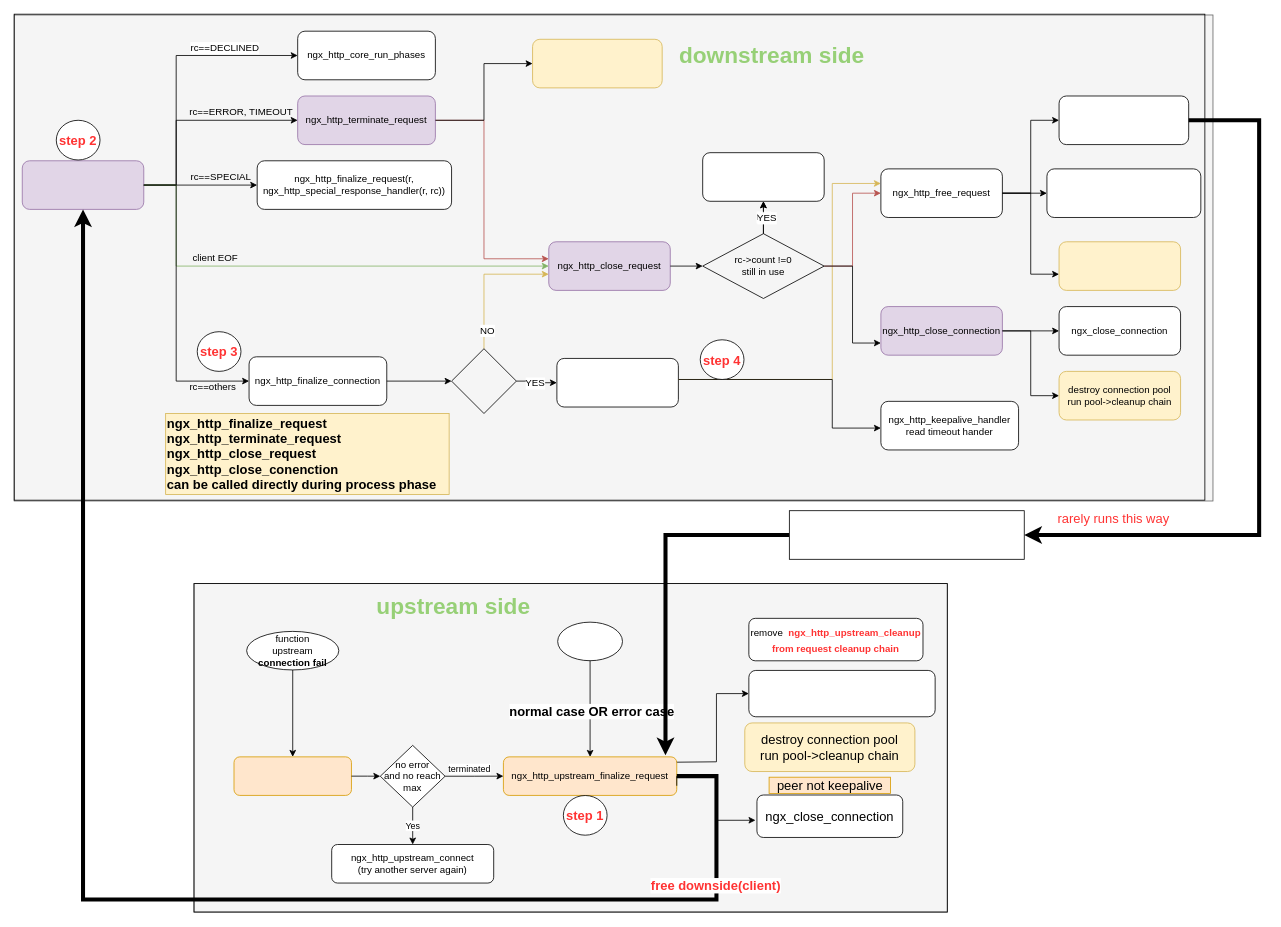
The diagram is 1281 pixels wide and 927 high, and some of its shapes have lost their labels. The box of each missing label's shape, as (x1, y1, x2, y2) in pixels:
client keepalive: (451, 348, 516, 414)
destroy request pool run pool->cleanup chain: (1058, 241, 1181, 290)
function: (557, 621, 622, 661)
ngx_http_finalize_request: (21, 160, 144, 209)
ngx_http_log_request (access log) LOG_PHASE handler: (1046, 168, 1201, 217)
ngx_http_set_keepalive: (556, 358, 678, 407)
ngx_http_upstream_cleanup: (789, 510, 1024, 559)
ngx_http_upstream_next: (233, 756, 351, 795)
return, nothing to do: (702, 152, 824, 201)
run request->cleanup chain: (1058, 95, 1189, 145)
run request->cleanup chain clear cleanup chain: (532, 38, 662, 88)
u->peer.free （save connection for keepalive): (748, 670, 935, 717)
